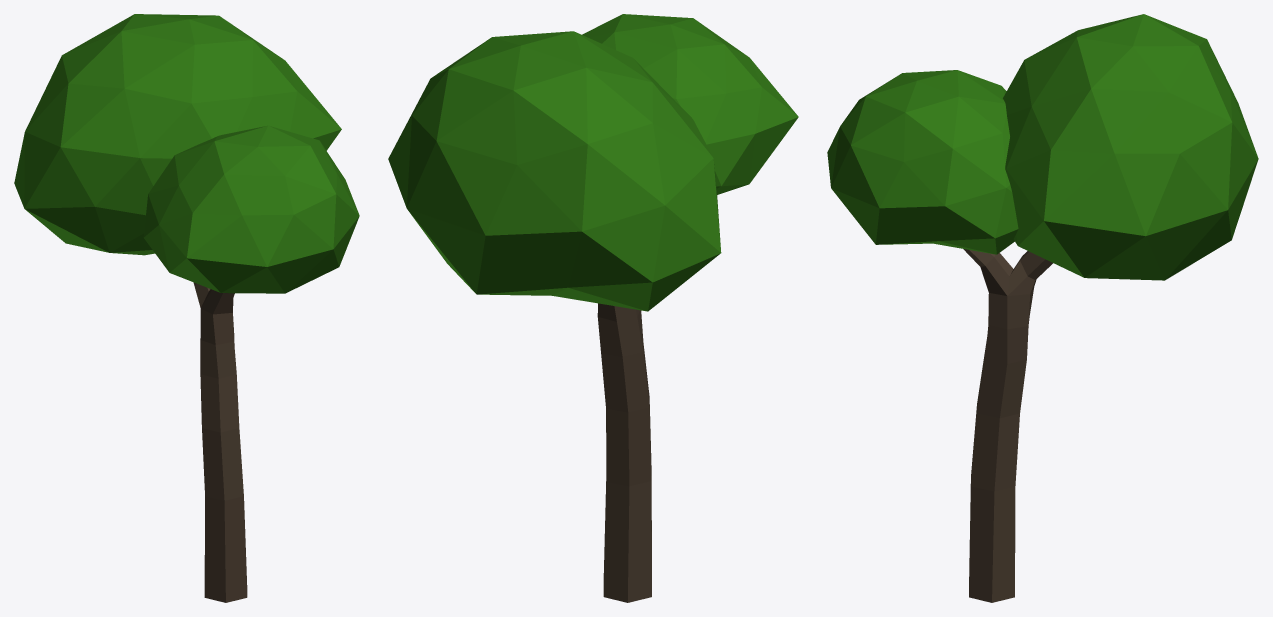
Rendered from Tree2.fbx.
3 renders of one model, left to right at view 1: azimuth 30°, elevation 25°; view 2: azimuth 150°, elevation 25°; view 3: azimuth 270°, elevation 25°, orthographic. The views are drawn at different scales.
Parts seen in each view (by area): view 1: Tree_2_LOD0; view 2: Tree_2_LOD0; view 3: Tree_2_LOD0.
Boxes of the visible parts, x1,y1,x2,y2 form: Tree_2_LOD0: (14, 14, 359, 602); Tree_2_LOD0: (388, 14, 798, 602); Tree_2_LOD0: (827, 14, 1258, 602).
Size of what is drawn, in the model's own units: 190 by 334 by 233.
